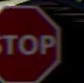Stop: (0, 4, 62, 80)
